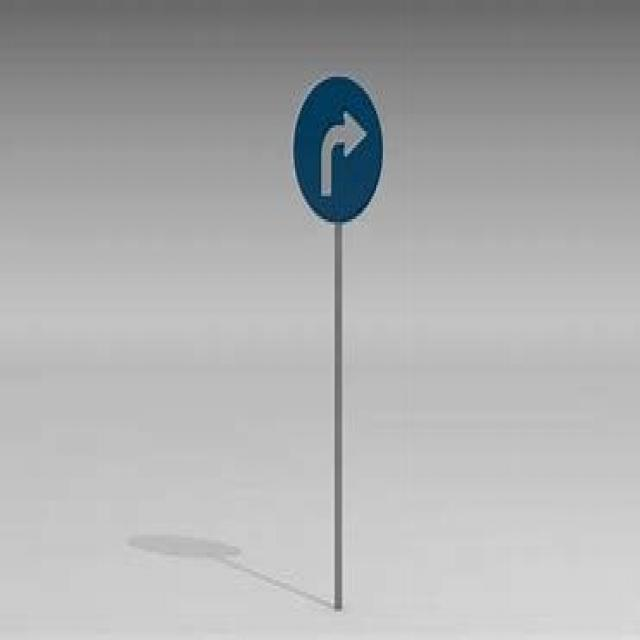COMPULSARY_TURN_RIGHT_AHEAD: (292, 71, 381, 222)
